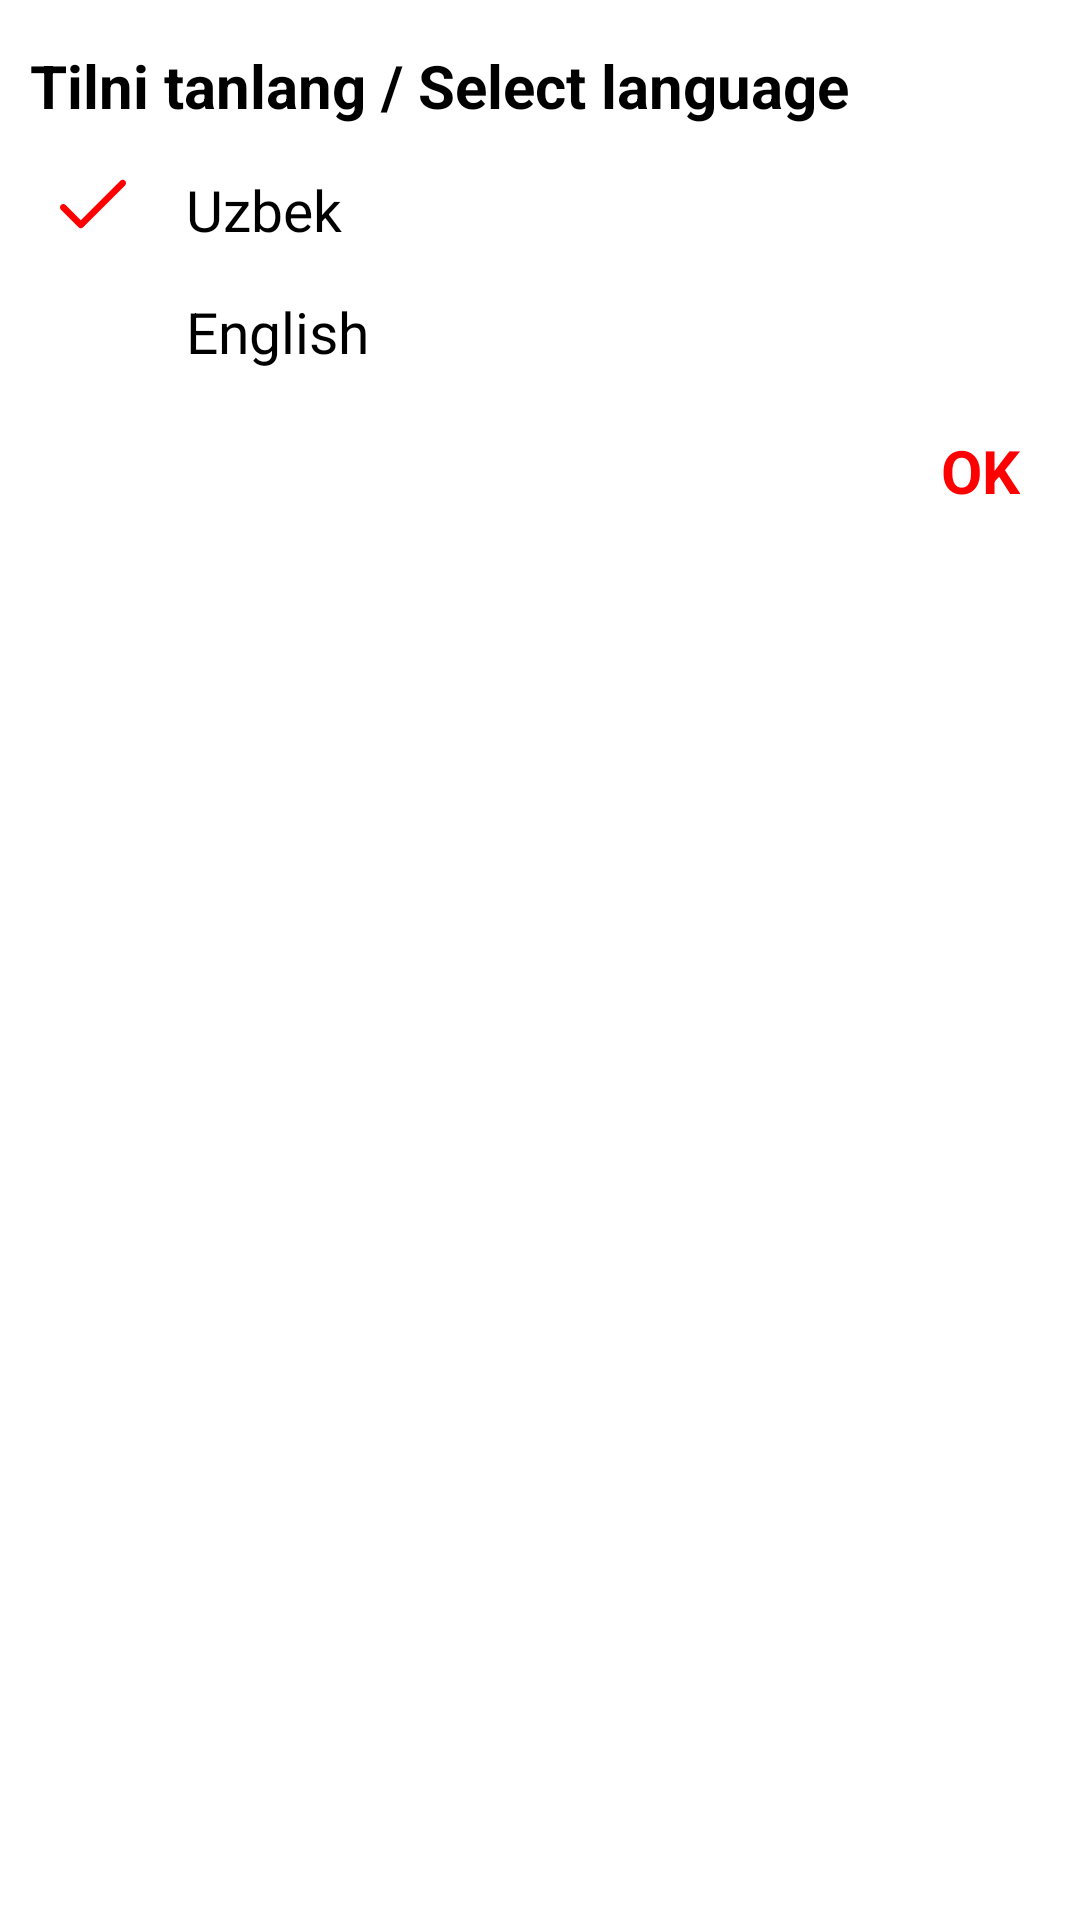

Where icons sit on this 1080px×1920px app screen, as [x1,y1,x2,y2]:
tick: [60,179,126,229]
